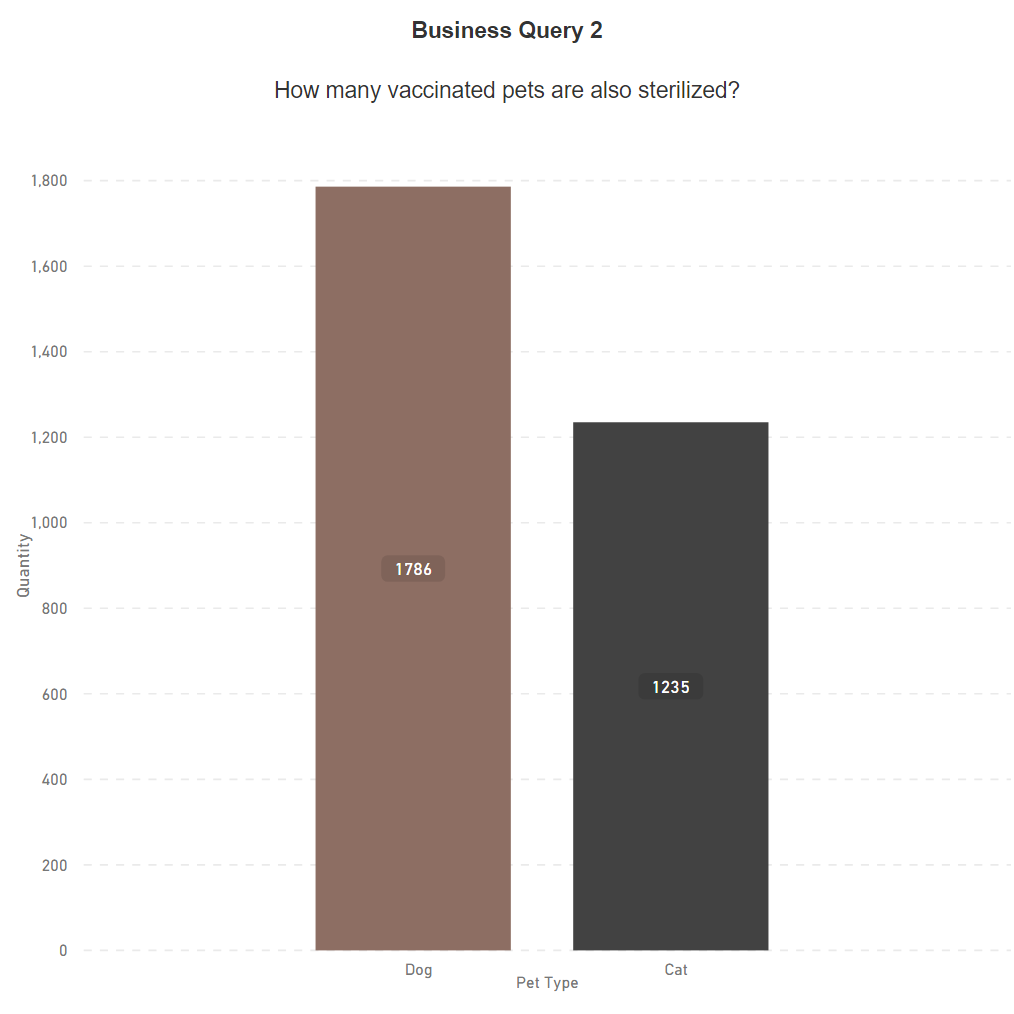

The page's visual inventory and layout, read from the dashboard file:
{"tool":"powerbi","page":{"name":"Business Query 2","canvas":[1280,720],"ordinal":1},"visuals":[{"type":"clusteredColumnChart","fields":{"Y":["Fact Pet Adoption Speed.Quantity"],"Category":["Dim Type.Type"]},"box":[322.5,97.6,633.8,522.6],"z":0},{"type":"textbox","box":[472,3.7,336.1,93.9],"z":1000}]}

Visuals, with their boxes on the page's 1280x720 design canvas (x1, y1, x2, y2). These are canvas units, not pixel positions in the 1014x1014 screenshot, which may show the page scaled, cropped or inside an application window:
clusteredColumnChart - Fact Pet Adoption Speed.Quantity x Dim Type.Type: x1=322 y1=98 x2=956 y2=620
textbox: x1=472 y1=4 x2=808 y2=98
